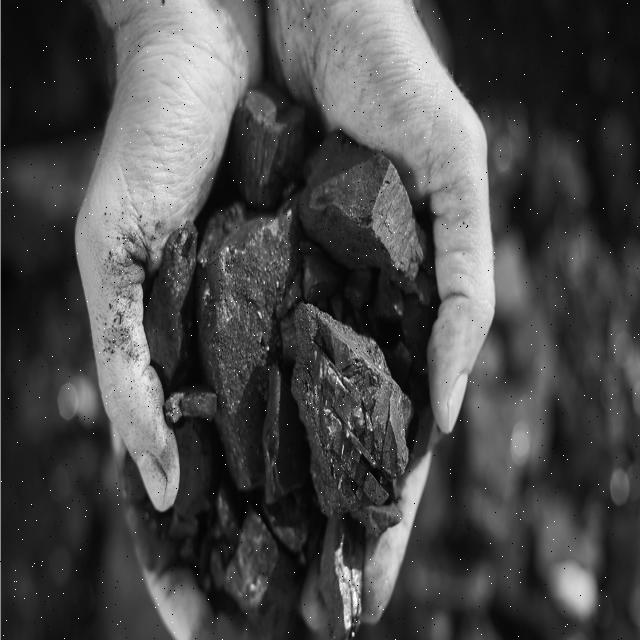Sedimentary: (166, 97, 414, 632)
